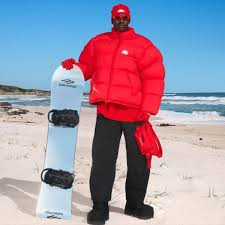snowboard: (34, 62, 85, 220)
